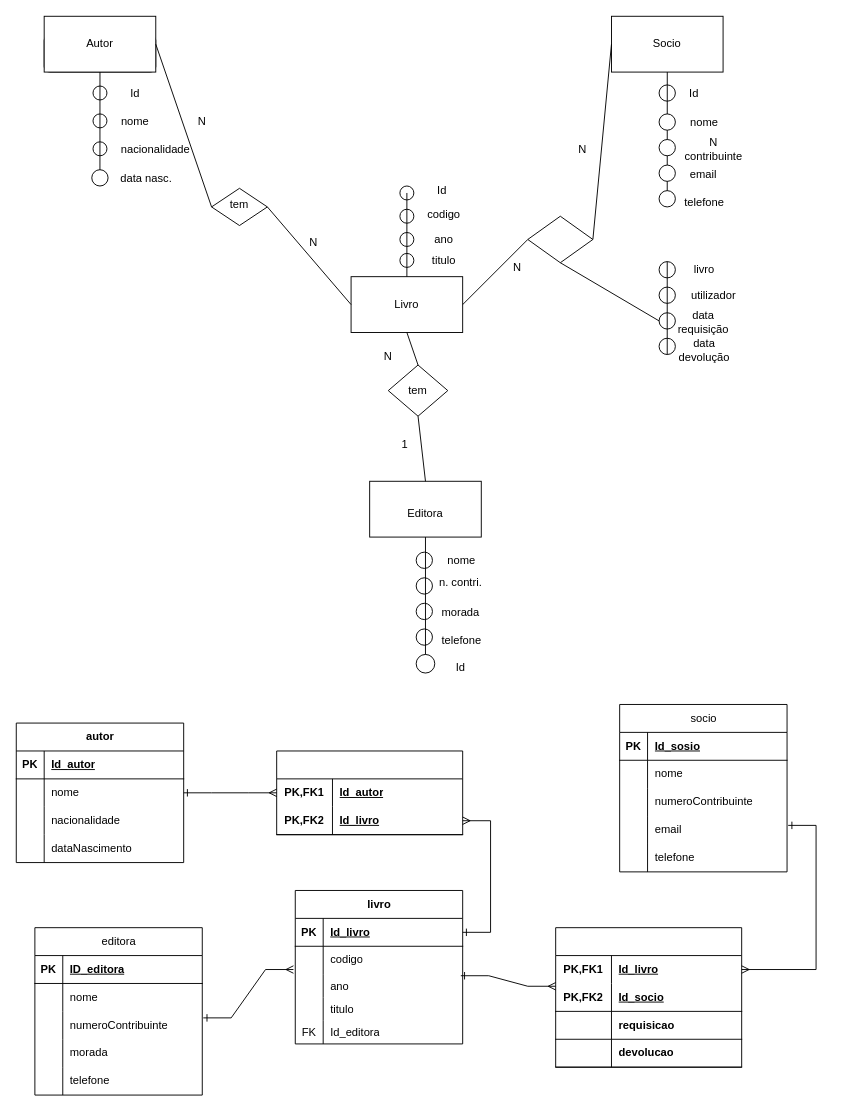
The diagram is 841 pixels wide and 1111 high, and some of its shapes have lost their labels. Here are the shapes that lost their labels. From the top down, the box of each, then its label:
(527, 215, 593, 263): pega
(276, 750, 463, 835): autor_livro
(555, 927, 742, 1067): livro_socio
